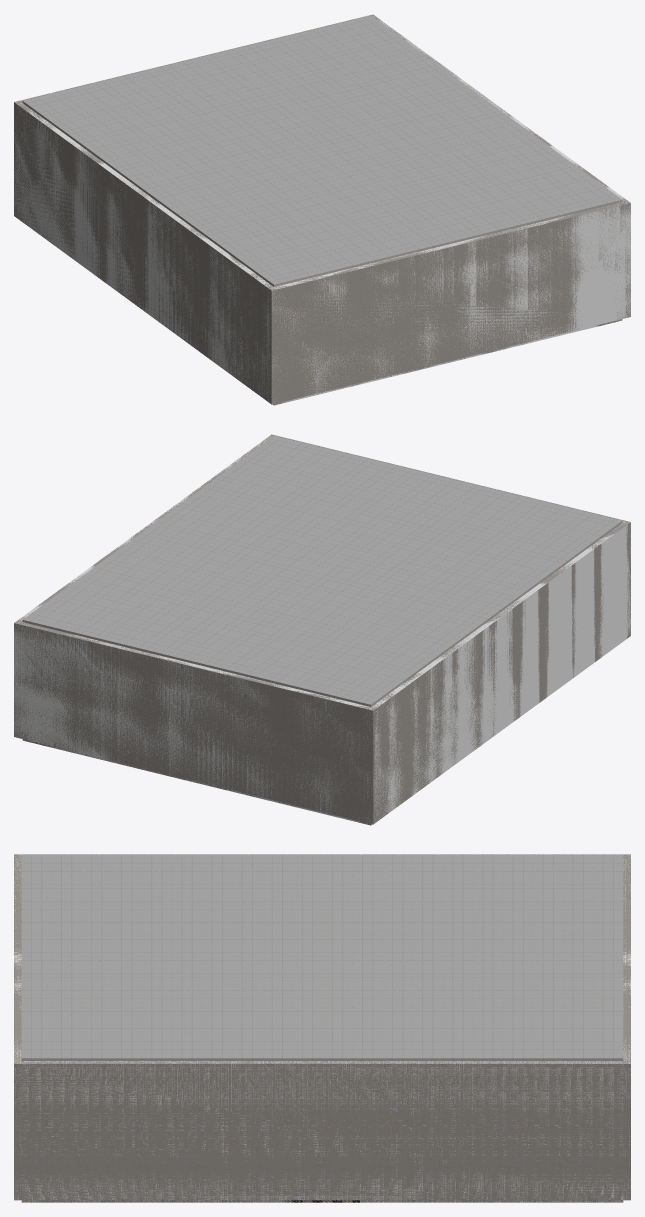
File: salle_essai_rayons.glb
3 renders of one model, top to bottom at view 1: azimuth 30°, elevation 25°; view 2: azimuth 150°, elevation 25°; view 3: azimuth 270°, elevation 25°, orthographic. The views are drawn at different scales.
Parts seen in each view (by area): view 1: plafond, murs, col_box_mur_ouest, col_box_mur_sud, col_box_mur_est, col_box_sol; view 2: plafond, murs, col_box_mur_ouest, col_box_mur_nord, col_box_sol; view 3: plafond, murs, col_box_mur_est, sol_sud, sol_nord, col_box_sol, col_box_mur_sud, col_box_mur_nord.
Boxes of the visible parts, x1=… form: plafond: x1=22, y1=16, x2=622, y2=286; murs: x1=14, y1=14, x2=630, y2=404; col_box_mur_ouest: x1=17, y1=103, x2=272, y2=400; col_box_mur_sud: x1=268, y1=201, x2=630, y2=403; col_box_mur_est: x1=374, y1=17, x2=626, y2=201; col_box_sol: x1=273, y1=320, x2=619, y2=404; plafond: x1=22, y1=436, x2=622, y2=706; murs: x1=14, y1=434, x2=630, y2=824; col_box_mur_ouest: x1=372, y1=523, x2=627, y2=820; col_box_mur_nord: x1=14, y1=621, x2=376, y2=824; col_box_sol: x1=24, y1=740, x2=369, y2=824; plafond: x1=21, y1=854, x2=623, y2=1060; murs: x1=14, y1=854, x2=630, y2=1200; col_box_mur_est: x1=21, y1=1061, x2=623, y2=1200; sol_sud: x1=21, y1=1200, x2=284, y2=1202; sol_nord: x1=360, y1=1200, x2=623, y2=1202; col_box_sol: x1=21, y1=1200, x2=622, y2=1202; col_box_mur_sud: x1=14, y1=854, x2=21, y2=1200; col_box_mur_nord: x1=623, y1=854, x2=630, y2=1199.
Bounding box in the file's own units: 16.5 × 5.3 × 20.5.
14 materials, 14 textured.
